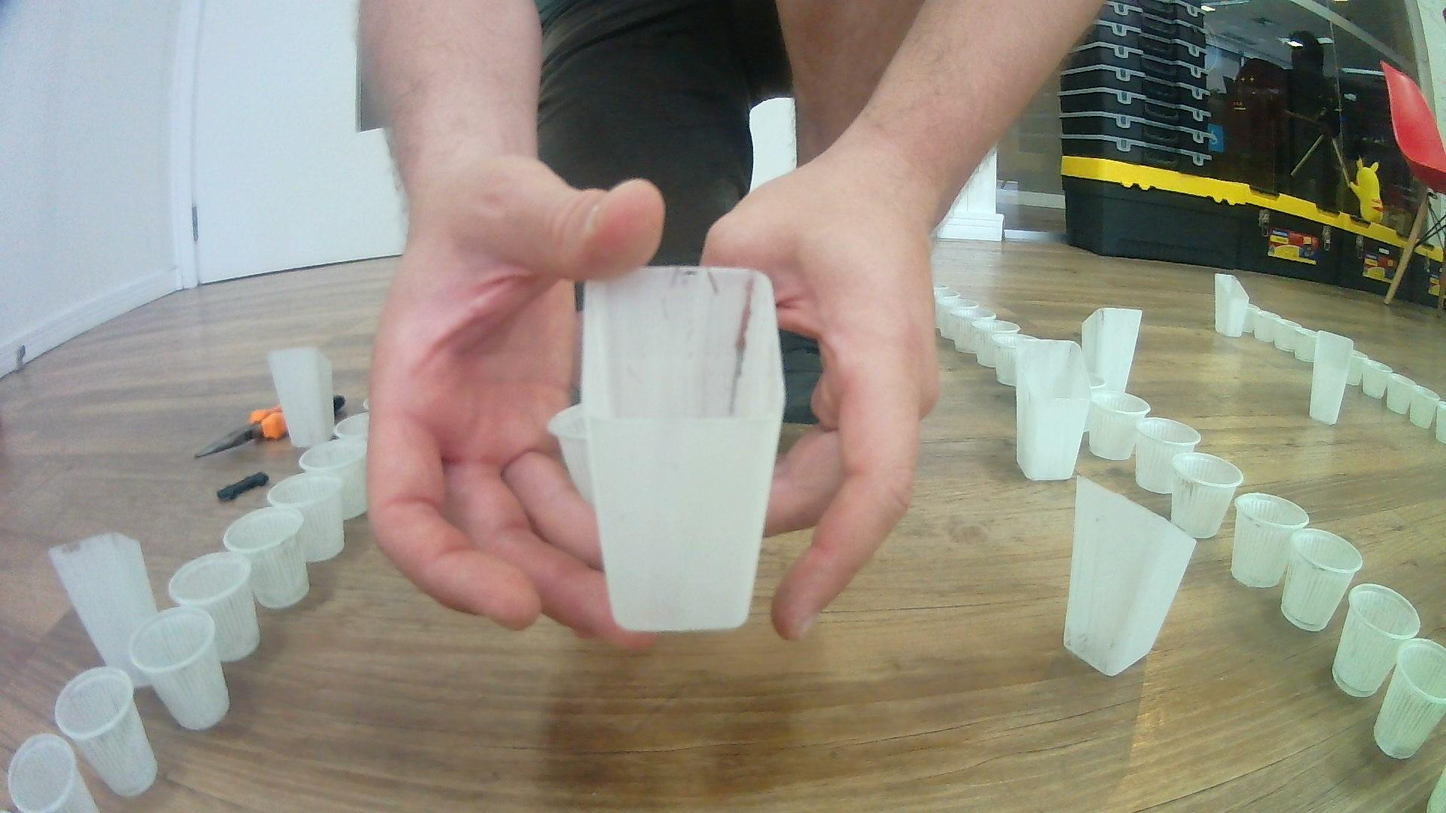erva_daninha: (549, 265, 786, 635), (1060, 473, 1200, 678), (50, 531, 156, 675), (1013, 336, 1094, 482), (266, 347, 334, 450), (1079, 306, 1144, 395), (1308, 330, 1355, 426), (1213, 273, 1250, 338)
planta: (52, 665, 159, 799), (125, 605, 231, 732), (166, 550, 264, 663), (1331, 583, 1422, 699), (222, 506, 311, 611), (1372, 638, 1446, 762), (1280, 526, 1365, 632), (1230, 492, 1310, 590), (266, 471, 346, 565), (7, 734, 101, 813), (1169, 451, 1244, 540), (297, 439, 368, 522), (1134, 416, 1203, 495), (1088, 393, 1152, 461), (993, 333, 1037, 386), (972, 320, 1020, 368), (937, 297, 980, 341), (955, 309, 996, 354), (1409, 385, 1442, 430), (1274, 322, 1310, 361), (1386, 373, 1419, 414), (1362, 358, 1393, 400), (1258, 313, 1292, 351), (932, 284, 961, 327), (331, 412, 369, 441), (1244, 306, 1273, 343), (1349, 351, 1370, 388), (1435, 400, 1446, 444)
